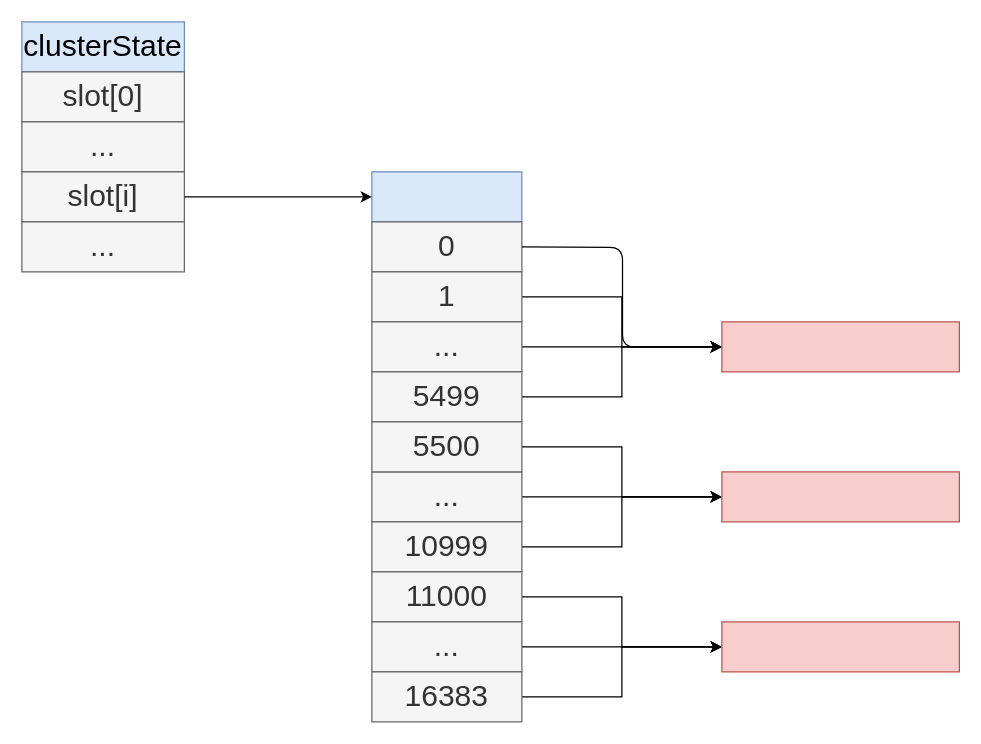
Image size: 981x744. Some labels were removed from this diagram. The centre of each missing label's shape, as x and y in pixels:
clusterNode1: point 840,346
clusterNode2: point 840,496
clusterNode3: point 840,646
哈希槽: point 446,196
